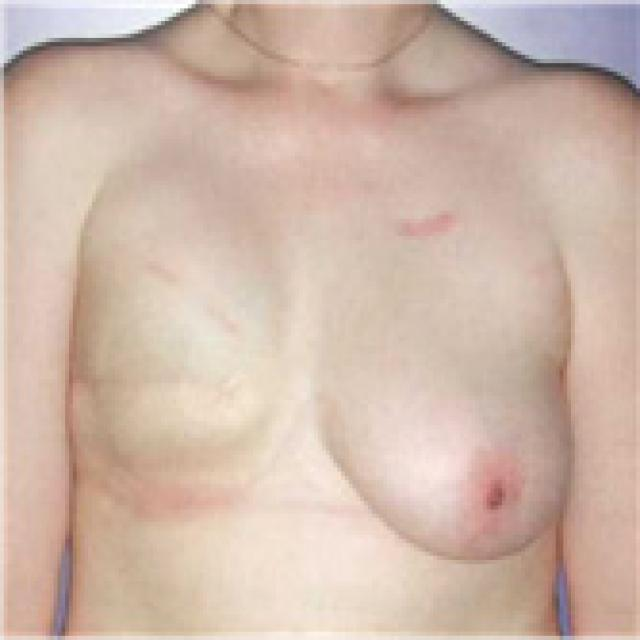Seno herido: (58, 216, 302, 546)
Seno ileso: (311, 235, 582, 587)
